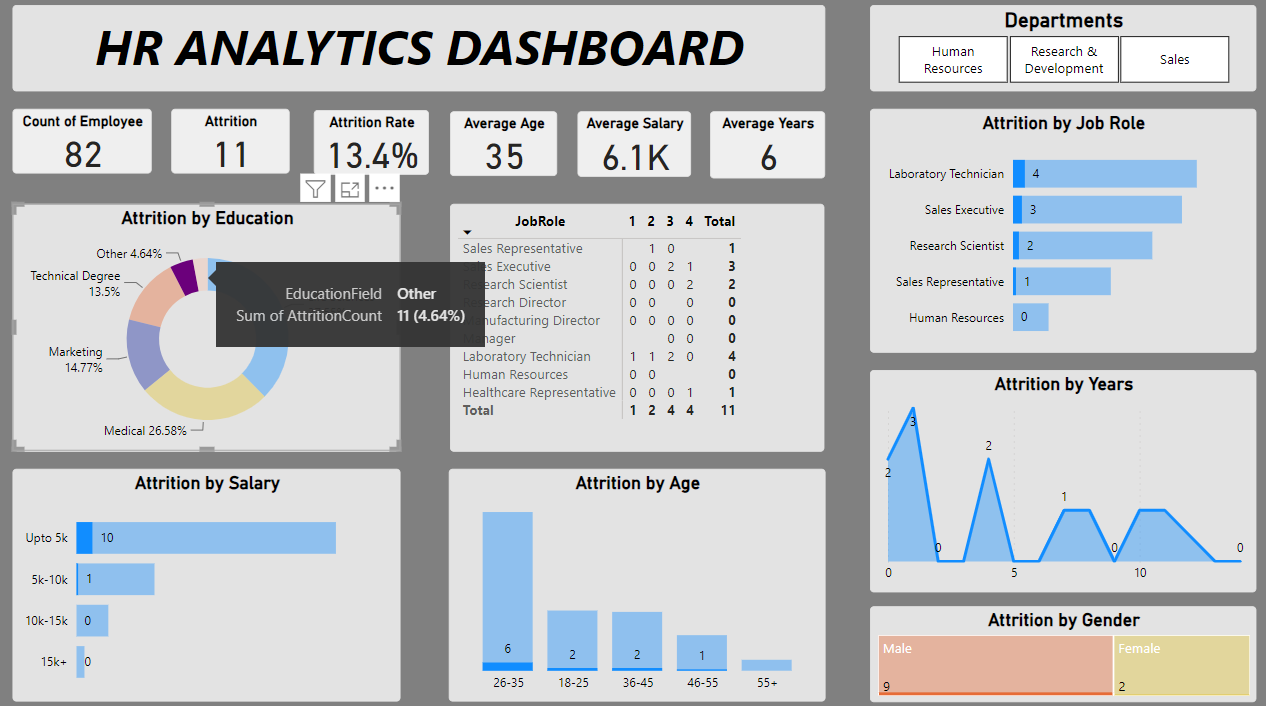

Layout of this report page (visuals, bound fields, positions):
{"tool":"powerbi","page":{"name":"Page 1","canvas":[1280,720],"ordinal":0},"visuals":[{"type":"card","title":"Count of Employee","fields":{"Values":["CountNonNull(HR_Analytics.EmpID)"]},"box":[17,113.8,139.4,64.9],"z":0},{"type":"card","title":"Attrition","fields":{"Values":["Sum(HR_Analytics.AttritionCount)"]},"box":[176.6,113.8,118.1,64.9],"z":1000},{"type":"card","title":"Attrition Rate","fields":{"Values":["HR_Analytics.AttritionRate"]},"box":[319.1,114.9,114.9,64.9],"z":2000},{"type":"card","title":"Average Age ","fields":{"Values":["Avg(HR_Analytics.Age)"]},"box":[455.3,116,107.4,64.9],"z":3000},{"type":"card","title":"Average Salary","fields":{"Values":["Avg(HR_Analytics.MonthlyIncome)"]},"box":[583,116,113.8,66],"z":4000},{"type":"card","title":"Average Years ","fields":{"Values":["Avg(HR_Analytics.YearsAtCompany)"]},"box":[714.9,116,114.9,67],"z":5000},{"type":"donutChart","title":"Attrition by Education","fields":{"Category":["HR_Analytics.EducationField"],"Y":["Sum(HR_Analytics.AttritionCount)"]},"box":[17,208.5,388.3,247.9],"z":6000},{"type":"columnChart","title":"Attrition by Age","fields":{"Category":["HR_Analytics.AgeGroup"],"Y":["Sum(HR_Analytics.AttritionCount)"]},"box":[453.2,473.4,376.6,233],"z":7000},{"type":"pivotTable","fields":{"Rows":["HR_Analytics.JobRole"],"Columns":["HR_Analytics.JobSatisfaction"],"Values":["Sum(HR_Analytics.AttritionCount)"]},"box":[455.3,208.5,374.5,247.9],"z":8000},{"type":"barChart","title":"Attrition by Salary","fields":{"Category":["HR_Analytics.SalarySlab"],"Y":["Sum(HR_Analytics.AttritionCount)"]},"box":[17,473.4,388.3,233],"z":9000},{"type":"barChart","title":"Attrition by Job Role","fields":{"Category":["HR_Analytics.JobRole"],"Y":["Sum(HR_Analytics.AttritionCount)"]},"box":[875.5,113.8,386.2,243.6],"z":10000},{"type":"areaChart","title":"Attrition by Years","fields":{"Category":["HR_Analytics.YearsAtCompany"],"Y":["Sum(HR_Analytics.AttritionCount)"]},"box":[875,375,386.2,222.5],"z":11000},{"type":"treemap","title":"Attrition by Gender","fields":{"Group":["HR_Analytics.Gender"],"Values":["Sum(HR_Analytics.AttritionCount)"]},"box":[875.5,610.6,386.2,95.7],"z":12000},{"type":"slicer","title":"Departments","fields":{"Values":["HR_Analytics.Department"]},"box":[875.5,9.6,386.2,86.2],"z":13000},{"type":"textbox","box":[17,9.6,812.8,86.2],"z":14000}]}

Visuals, with their boxes in screenshot pixels (x1, y1, x2, y2), scaled from the page's 1280x720 canvas onto the 1266x706 screenshot:
"Count of Employee" card: (x1=17, y1=112, x2=155, y2=175)
"Attrition" card: (x1=175, y1=112, x2=291, y2=175)
"Attrition Rate" card: (x1=316, y1=113, x2=429, y2=176)
"Average Age " card: (x1=450, y1=114, x2=557, y2=177)
"Average Salary" card: (x1=577, y1=114, x2=689, y2=178)
"Average Years " card: (x1=707, y1=114, x2=821, y2=179)
"Attrition by Education" donutChart: (x1=17, y1=204, x2=401, y2=448)
"Attrition by Age" columnChart: (x1=448, y1=464, x2=821, y2=693)
pivotTable - HR_Analytics.JobRole x HR_Analytics.JobSatisfaction: (x1=450, y1=204, x2=821, y2=448)
"Attrition by Salary" barChart: (x1=17, y1=464, x2=401, y2=693)
"Attrition by Job Role" barChart: (x1=866, y1=112, x2=1248, y2=350)
"Attrition by Years" areaChart: (x1=865, y1=368, x2=1247, y2=586)
"Attrition by Gender" treemap: (x1=866, y1=599, x2=1248, y2=693)
"Departments" slicer: (x1=866, y1=9, x2=1248, y2=94)
textbox: (x1=17, y1=9, x2=821, y2=94)
